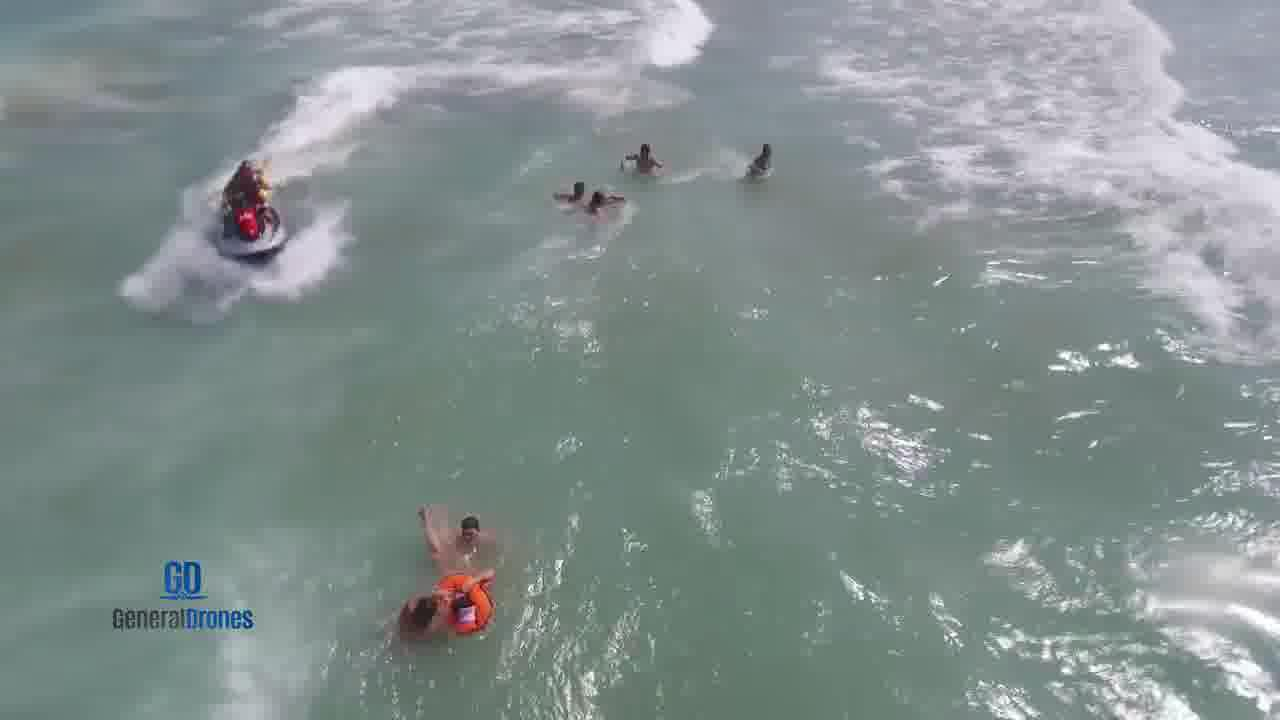swimmer: (411, 496, 514, 632), (377, 583, 451, 642), (443, 503, 516, 556), (609, 136, 672, 179), (737, 138, 791, 181), (578, 183, 627, 227), (549, 167, 596, 195)
